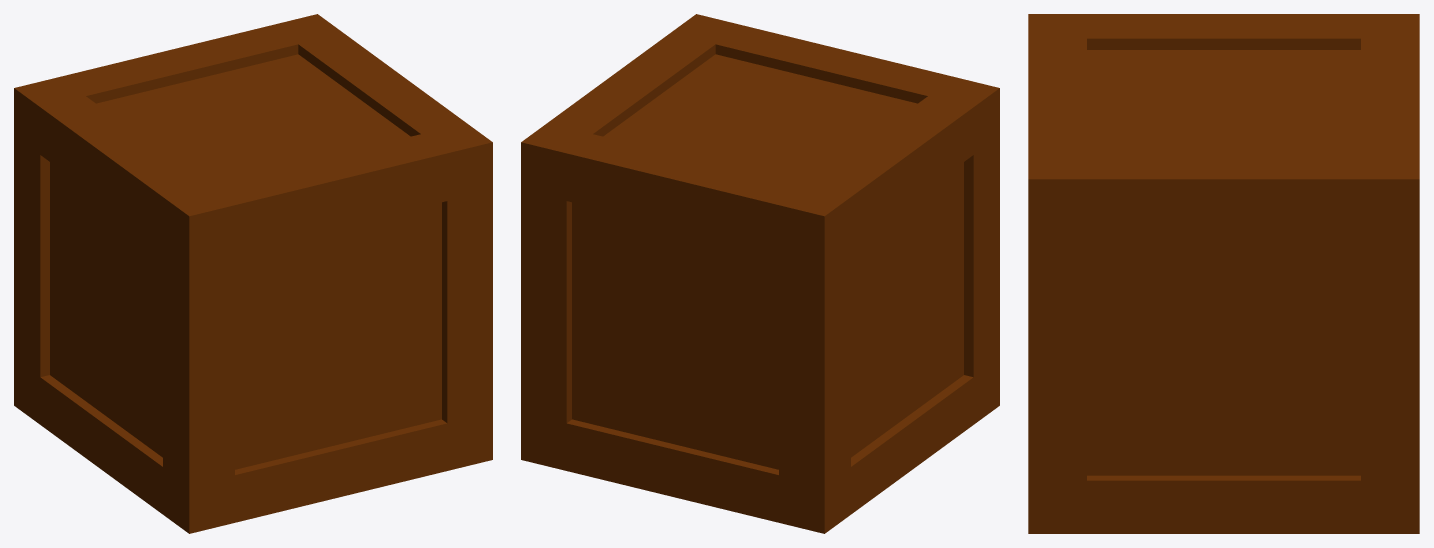
File: BrownBox.fbx
3 renders of one model, left to right at view 1: azimuth 30°, elevation 25°; view 2: azimuth 150°, elevation 25°; view 3: azimuth 270°, elevation 25°, orthographic. The views are drawn at different scales.
Parts seen in each view (by area): view 1: Box_Brown; view 2: Box_Brown; view 3: Box_Brown.
Part boxes in pixels (box(x1,y1,x2,y2)): Box_Brown: box(14, 14, 492, 533); Box_Brown: box(521, 14, 999, 533); Box_Brown: box(1028, 14, 1419, 533).
Bounding box in the file's own units: 175 × 175 × 175.
